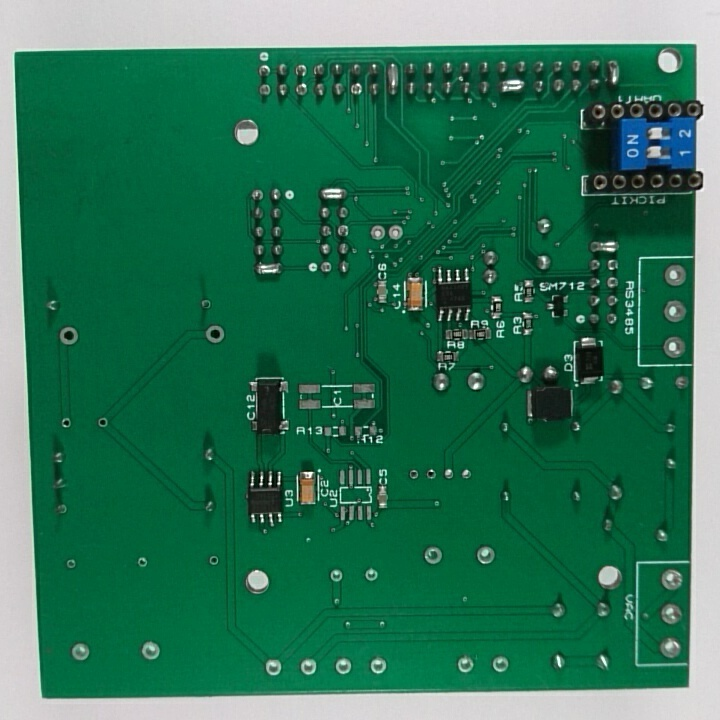F: (659, 260, 688, 289), (658, 600, 688, 628), (657, 565, 688, 592), (661, 333, 688, 363), (661, 297, 688, 326), (659, 634, 686, 662), (421, 543, 447, 571), (137, 640, 164, 666), (473, 543, 499, 569), (69, 641, 93, 666), (333, 654, 356, 678), (489, 652, 513, 675), (204, 321, 226, 346), (56, 323, 79, 346), (369, 654, 391, 678), (456, 652, 477, 677), (298, 655, 320, 678), (264, 655, 285, 678), (367, 220, 387, 243), (671, 373, 691, 395), (386, 223, 406, 244), (363, 566, 381, 586), (53, 500, 71, 519), (196, 297, 215, 314), (327, 569, 346, 586), (347, 80, 364, 98), (248, 188, 264, 205), (335, 222, 351, 238), (94, 415, 110, 431), (293, 62, 308, 79), (63, 558, 81, 572), (256, 64, 271, 80), (424, 466, 439, 482), (443, 467, 458, 483), (605, 275, 620, 291), (459, 466, 473, 483), (318, 259, 331, 276), (59, 415, 74, 429), (136, 556, 151, 570), (408, 469, 422, 483), (207, 555, 220, 569)
P: (251, 260, 287, 280), (385, 59, 401, 99), (587, 238, 621, 255), (604, 57, 622, 89), (318, 184, 347, 203), (496, 77, 526, 94)
